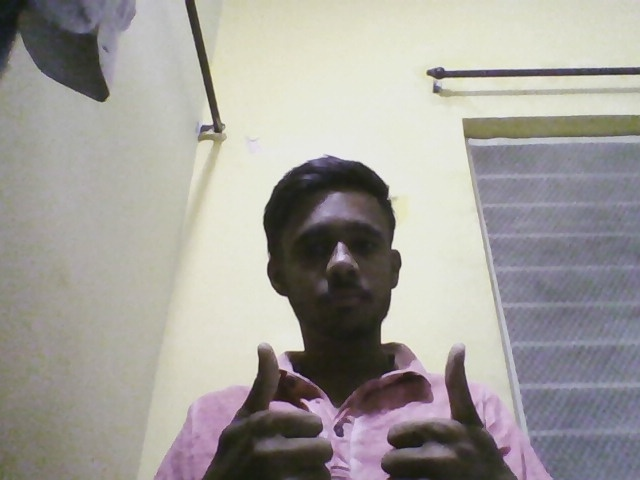thankyou: (210, 335, 504, 480)
